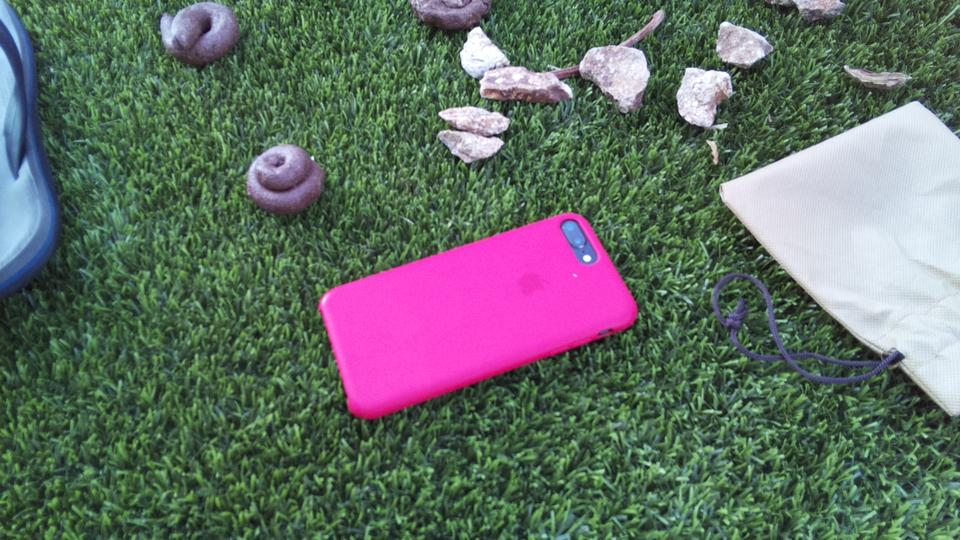poop: (241, 140, 332, 218), (152, 1, 247, 73)
